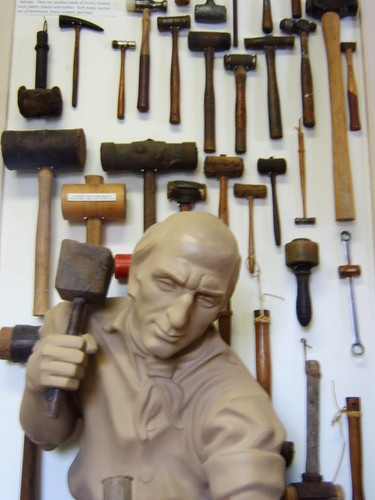hammer: (1, 127, 85, 315), (306, 3, 361, 221), (50, 234, 113, 422), (96, 137, 195, 254), (246, 34, 295, 143), (185, 32, 226, 157), (281, 18, 323, 134), (257, 145, 298, 263), (20, 17, 66, 118), (234, 178, 276, 284), (202, 151, 249, 244), (154, 13, 188, 125), (222, 51, 257, 157), (134, 2, 161, 110), (106, 36, 137, 121), (169, 183, 209, 228)
